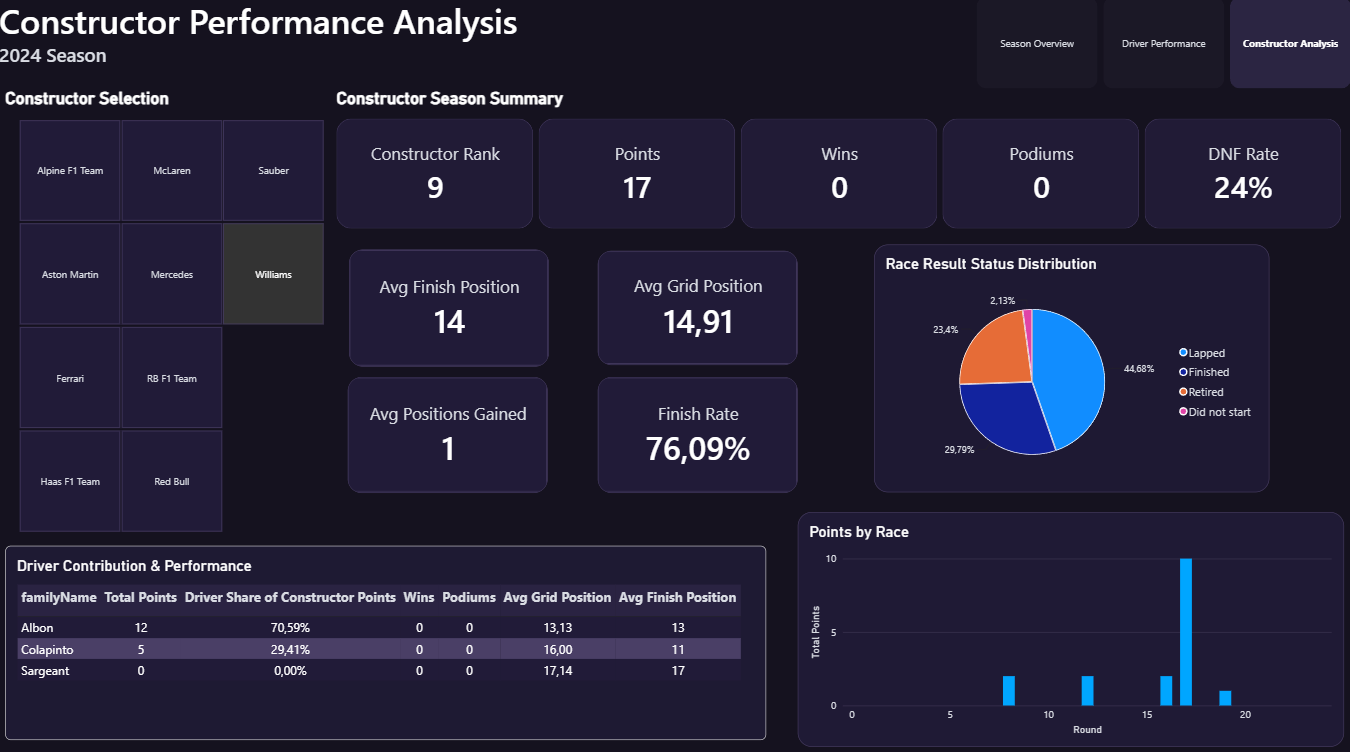

This screenshot's page, from the dashboard's own definition file:
{"tool":"powerbi","page":{"name":"Constructor Analysis","canvas":[1920,1080],"ordinal":2},"visuals":[{"type":"pageNavigator","box":[1388,0,532,130],"z":0},{"type":"textbox","box":[0,0,1388,130],"z":1000},{"type":"slicer","title":"Constructor Selection","fields":{"Values":["DimConstructor.ConstructorName"]},"box":[8.2,129.7,471.4,631.9],"z":2000},{"type":"cardVisual","title":"Constructor Season Summary","fields":{"Data":["_Measures.Constructor Rank","_Measures.Total Points","_Measures.Wins","_Measures.Podiums","_Measures.DNF Rate"]},"box":[480.2,129.6,1429.6,200],"z":3000},{"type":"columnChart","title":"Points by Race","fields":{"Category":["DimRace.round"],"Y":["_Measures.Total Points"]},"box":[1134.1,730.7,776,333.4],"z":4000},{"type":"tableEx","title":"Driver Contribution & Performance","fields":{"Values":["DimDriver.familyName","_Measures.Total Points","_Measures.Driver Share of Constructor Points","_Measures.Wins","_Measures.Podiums","_Measures.Avg Grid Position","_Measures.Avg Finish Position"]},"box":[8.2,780.1,1080.6,275.8],"z":5000},{"type":"cardVisual","fields":{"Data":["_Measures.Avg Grid Position"]},"box":[850.9,361,284,162.6],"z":6000},{"type":"cardVisual","fields":{"Data":["_Measures.Avg Finish Position"]},"box":[496.9,359,284,166.7],"z":7000},{"type":"cardVisual","fields":{"Data":["_Measures.Avg Positions Gained"]},"box":[496.1,539.3,284,164.7],"z":8000},{"type":"cardVisual","fields":{"Data":["_Measures.Finish Rate"]},"box":[850.1,539.3,284,164.7],"z":9000},{"type":"pieChart","title":"Race Result Status Distribution","fields":{"Category":["FactRaceResults.status"],"Y":["CountNonNull(FactRaceResults.status)"]},"box":[1243.2,352,561.9,352],"z":10000}]}

Visuals, with their boxes in screenshot pixels (x1, y1, x2, y2), scaled from the page's 1920x1080 canvas onto the 1350x752 screenshot:
pageNavigator: rect(976, 0, 1349, 91)
textbox: rect(0, 0, 976, 91)
"Constructor Selection" slicer: rect(6, 90, 337, 530)
"Constructor Season Summary" cardVisual: rect(338, 90, 1343, 229)
"Points by Race" columnChart: rect(797, 509, 1343, 741)
"Driver Contribution & Performance" tableEx: rect(6, 543, 766, 735)
cardVisual - _Measures.Avg Grid Position: rect(598, 251, 798, 365)
cardVisual - _Measures.Avg Finish Position: rect(349, 250, 549, 366)
cardVisual - _Measures.Avg Positions Gained: rect(349, 376, 549, 490)
cardVisual - _Measures.Finish Rate: rect(598, 376, 797, 490)
"Race Result Status Distribution" pieChart: rect(874, 245, 1269, 490)
